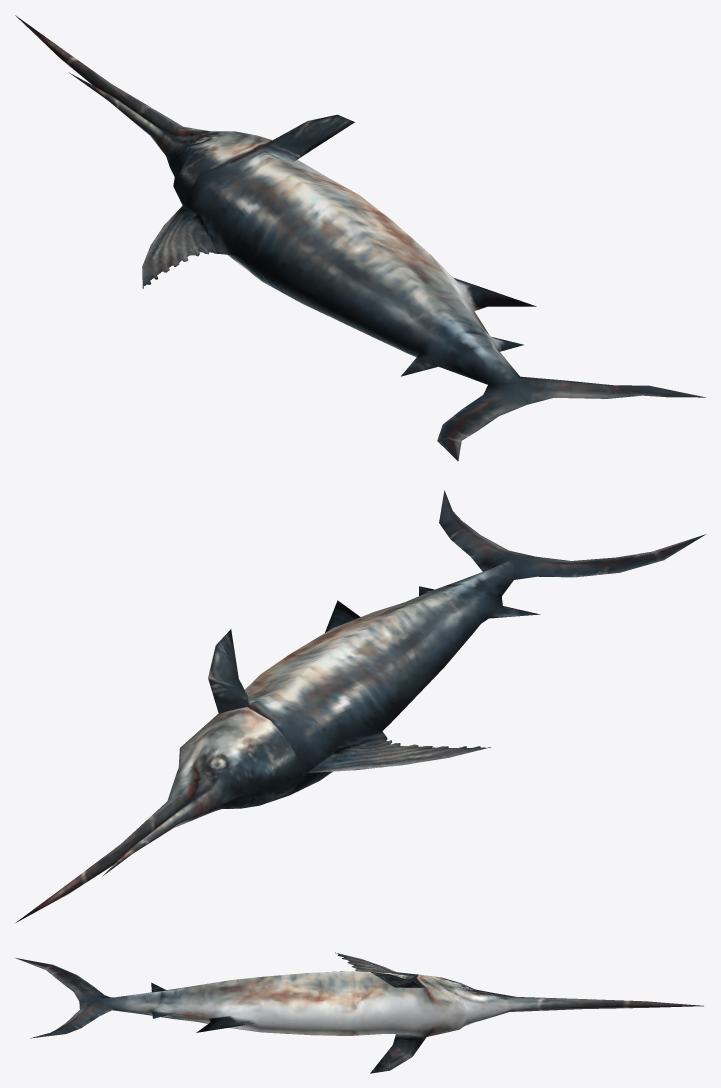
File: we119_amh.OBJ
3 views of the same model, one above another, from view 1: azimuth 30°, elevation 25°; view 2: azimuth 150°, elevation 25°; view 3: azimuth 270°, elevation 25° (orthographic). The views are drawn at different scales.
Visible parts, largest first — view 1: mesh_0; view 2: mesh_0; view 3: mesh_0.
Boxes of the visible parts, bbox=[...] form: mesh_0: bbox=[15, 15, 706, 461]; mesh_0: bbox=[16, 490, 705, 922]; mesh_0: bbox=[14, 952, 703, 1073].
Bounding box in the file's own units: 93.23 × 49.73 × 306.
1 material, 1 textured.
